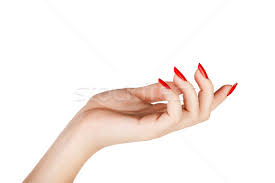hand: (70, 48, 258, 151)
